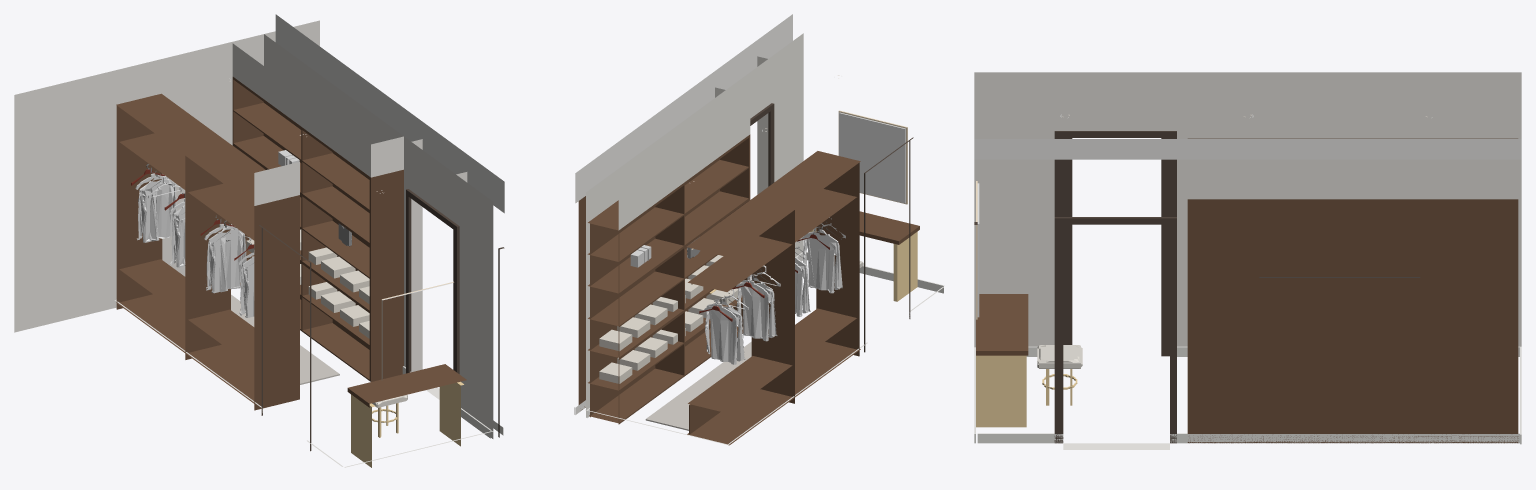
The model's file is DRESS.glb.
3 renders of one model, left to right at view 1: azimuth 30°, elevation 25°; view 2: azimuth 150°, elevation 25°; view 3: azimuth 270°, elevation 25°, orthographic. The views are drawn at different scales.
Parts seen in each view (by area): view 1: WEB_DRESS; view 2: WEB_DRESS; view 3: WEB_DRESS.
Boxes of the visible parts, x1,y1,x2,y2 form: WEB_DRESS: (14,14,504,467); WEB_DRESS: (574,14,944,445); WEB_DRESS: (974,72,1521,449).
Bounding box in the file's own units: 3.77 × 3 × 4.89.
